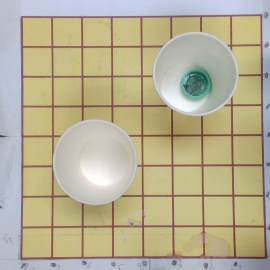cup: (52, 118, 139, 206)
cup_green: (152, 31, 239, 117)
